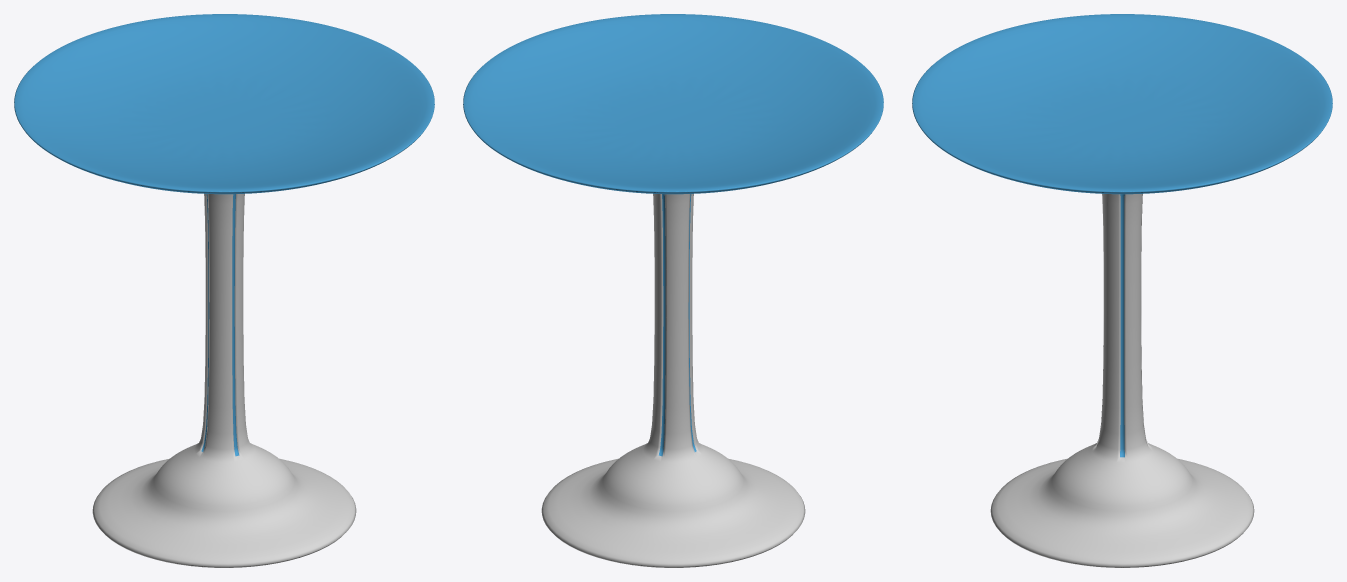
Rendered from table.dae.
3 renders of one model, left to right at view 1: azimuth 30°, elevation 25°; view 2: azimuth 150°, elevation 25°; view 3: azimuth 270°, elevation 25°, orthographic.
Visible parts, largest first — view 1: Cylinder, Cylinder_001; view 2: Cylinder, Cylinder_001; view 3: Cylinder, Cylinder_001.
Boxes of the visible parts, x1,y1,x2,y2 form: Cylinder: [14, 14, 434, 194]; Cylinder_001: [92, 194, 356, 567]; Cylinder: [463, 14, 883, 194]; Cylinder_001: [541, 194, 805, 567]; Cylinder: [912, 14, 1332, 194]; Cylinder_001: [990, 194, 1254, 567].
Bounding box in the file's own units: 2.87 × 2.87 × 3.12.
